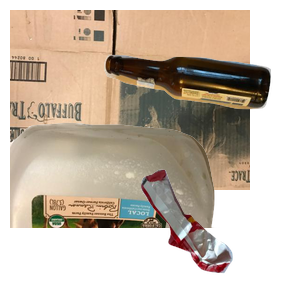cardboard: (10, 10, 250, 190)
glass: (101, 52, 300, 154)
plastic: (10, 120, 220, 300)
trash: (139, 167, 300, 300)
